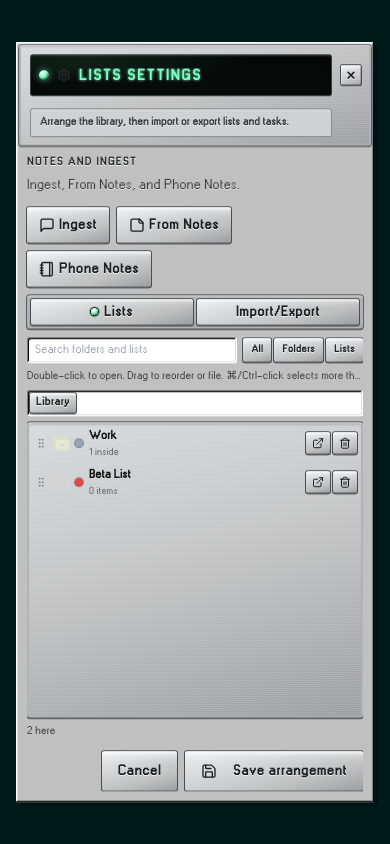
Scenario: NextActionsSettingsDialog › filters the library and opens a folder on double-click
Expected: the text "Work" is shown, [89,430,117,441]
Expected: the text "Beta List" is shown, [89,469,131,480]
Click the button "Folders" at (299, 350), box [274,338,323,362]
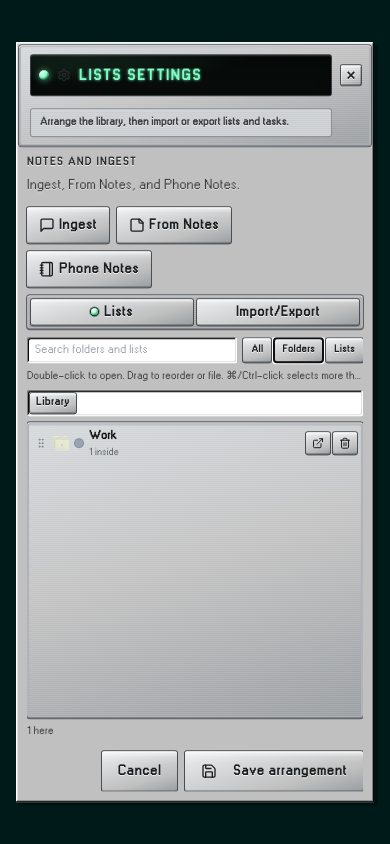
Expected: the text "Work" is shown, [89,430,117,441]
Expected: the option "Beta List" is gone
Click the button "All" at (257, 350), box [243,338,271,362]
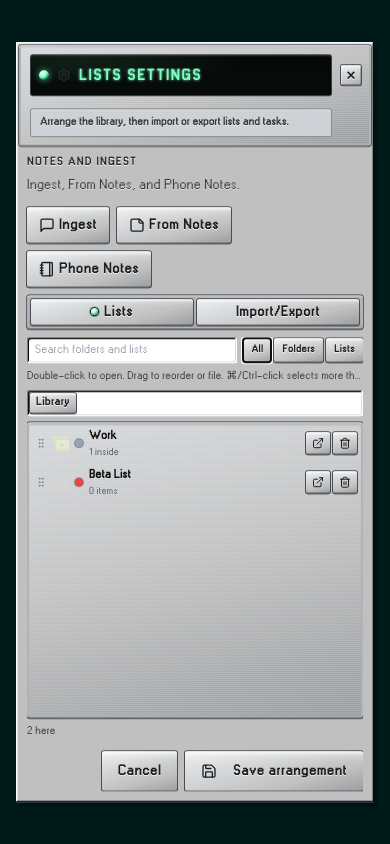
Type "beta" into the field labelled "Search folders and lists" at (132, 350), box [27,337,237,363]
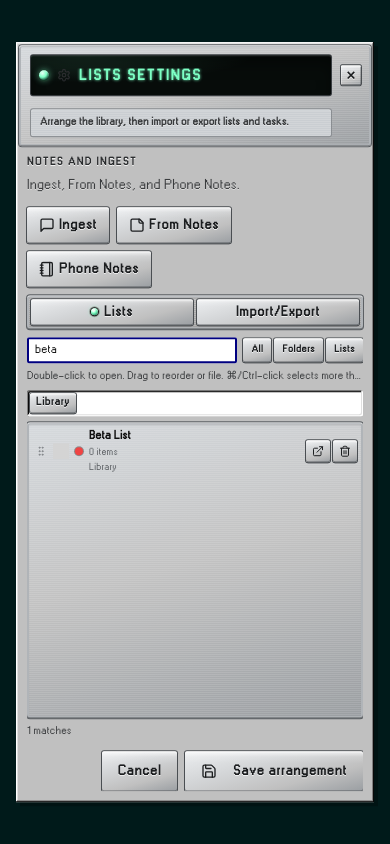
Expected: the text "Beta List" is shown, [89,430,131,441]
Expected: the option "Work" is gone
Clear the field named "Search folders and lists" at (132, 350), box [27,337,237,363]
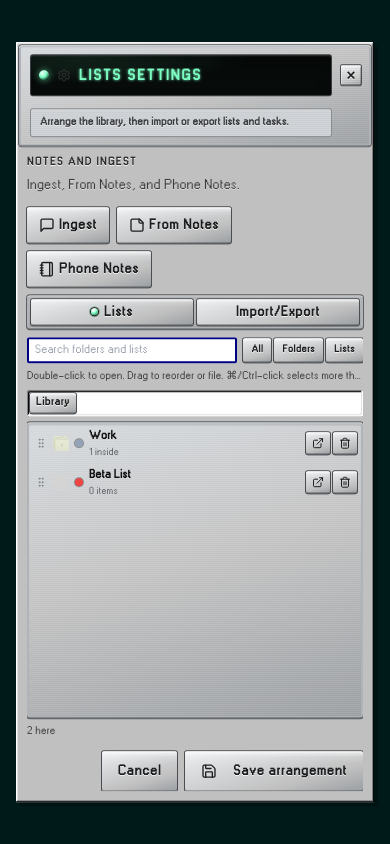
Double-click the text "Work" at (103, 435), box [89,430,117,441]
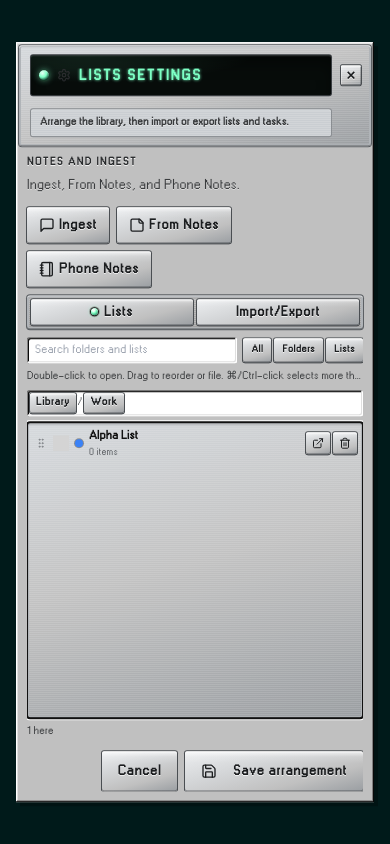
Expected: the text "Alpha List" is shown, [89,430,138,441]
Expected: the option "Beta List" is gone
